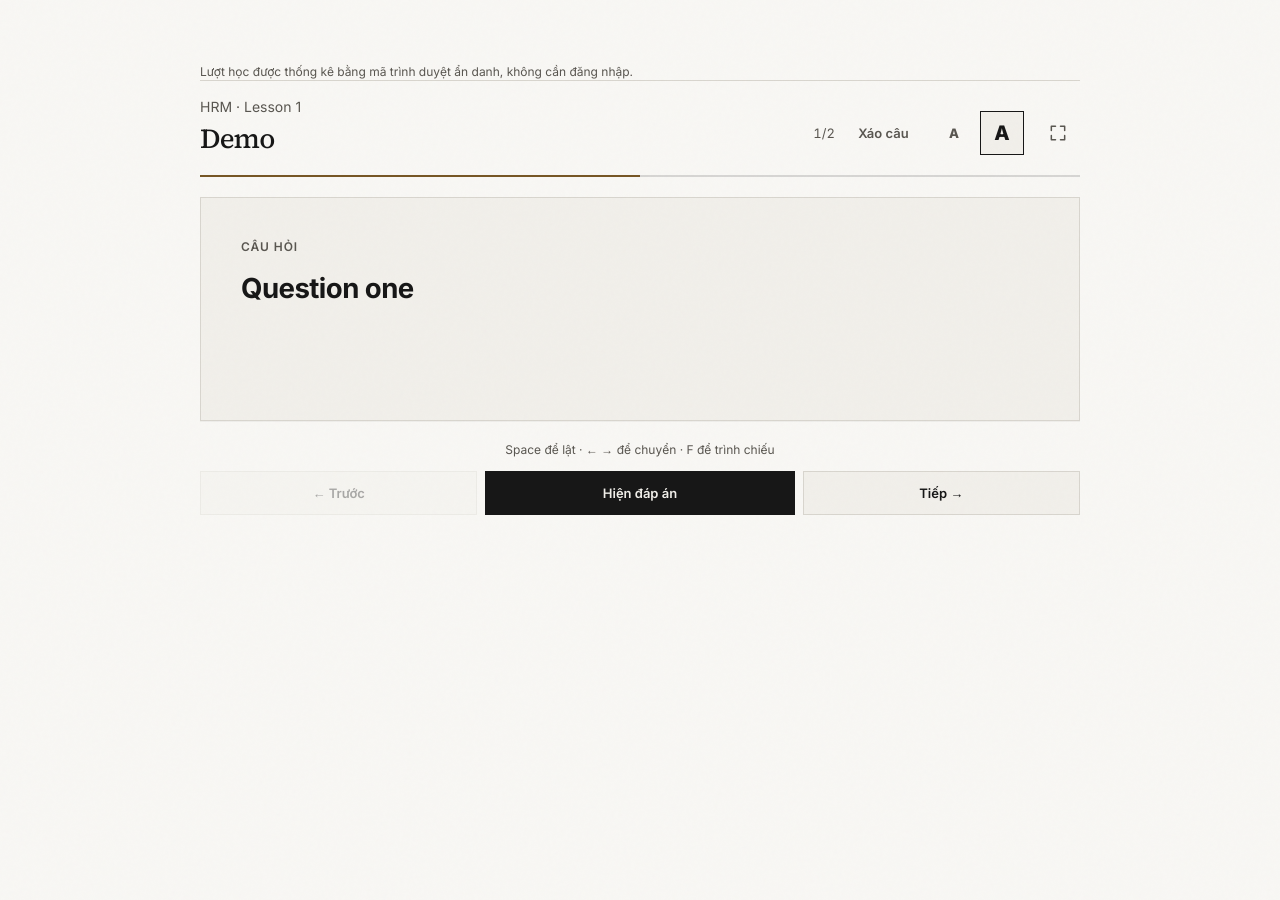
Test: ActiveRecallPlayer › enters native fullscreen and keeps presentation controls available
The image size is (1280, 900).
Click the button named "Trình chiếu".
click(1058, 134)  # box [1036, 112, 1080, 156]
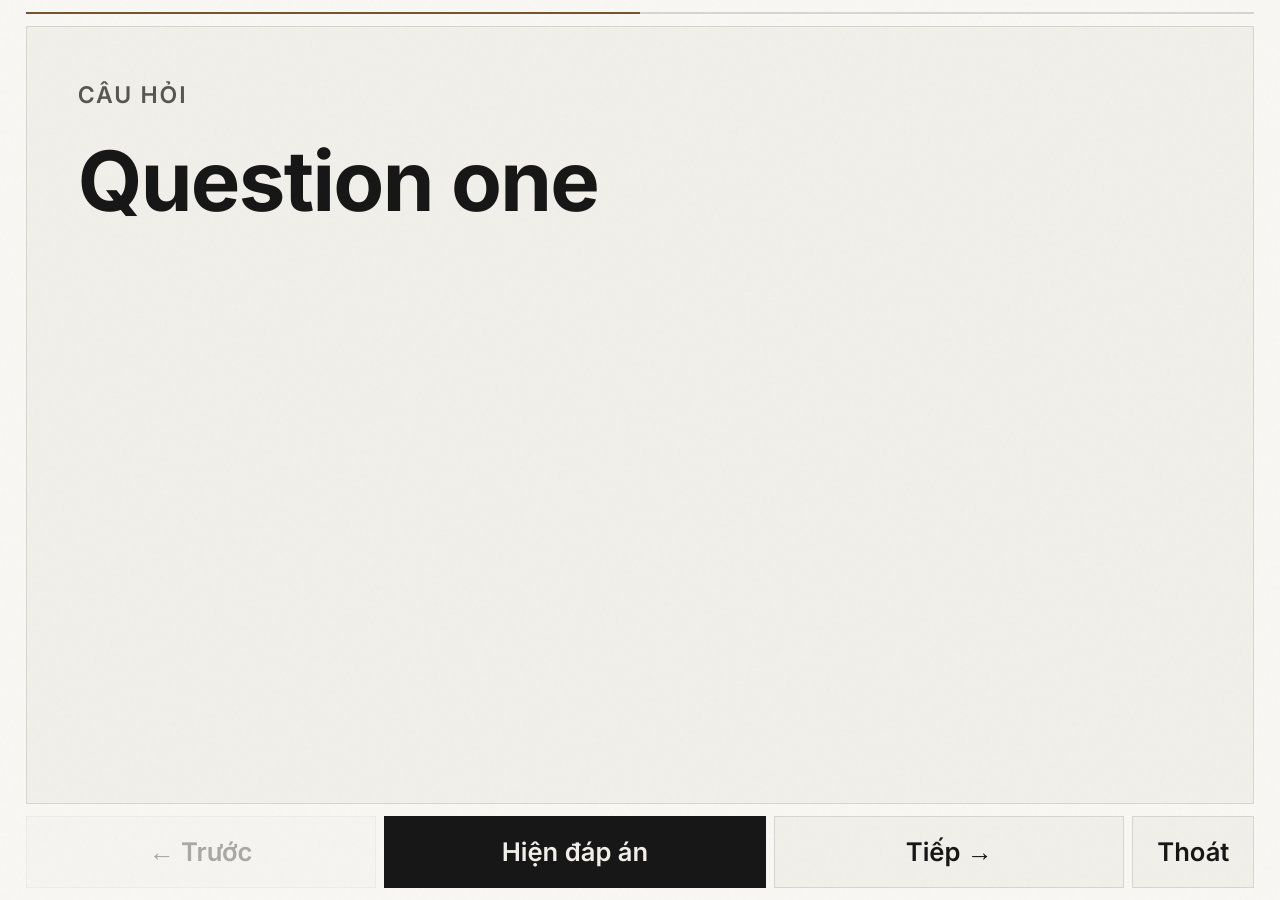
expect the button "Hiện đáp án" is shown: met, box [384, 816, 766, 888]
expect the button "Thoát" is shown: met, box [1132, 816, 1254, 888]
